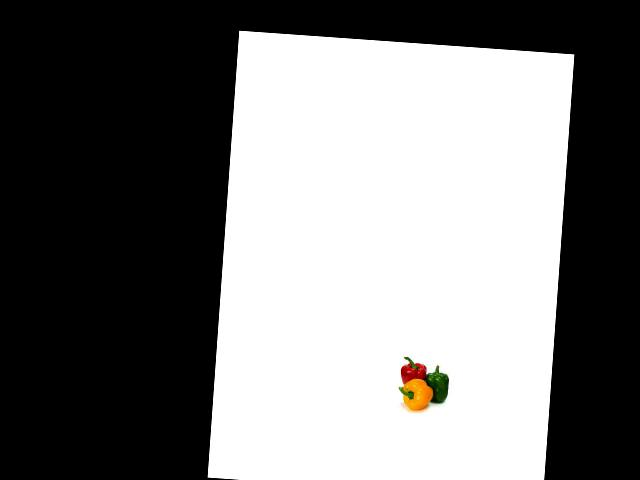bell_pepper: (395, 353, 431, 390)
